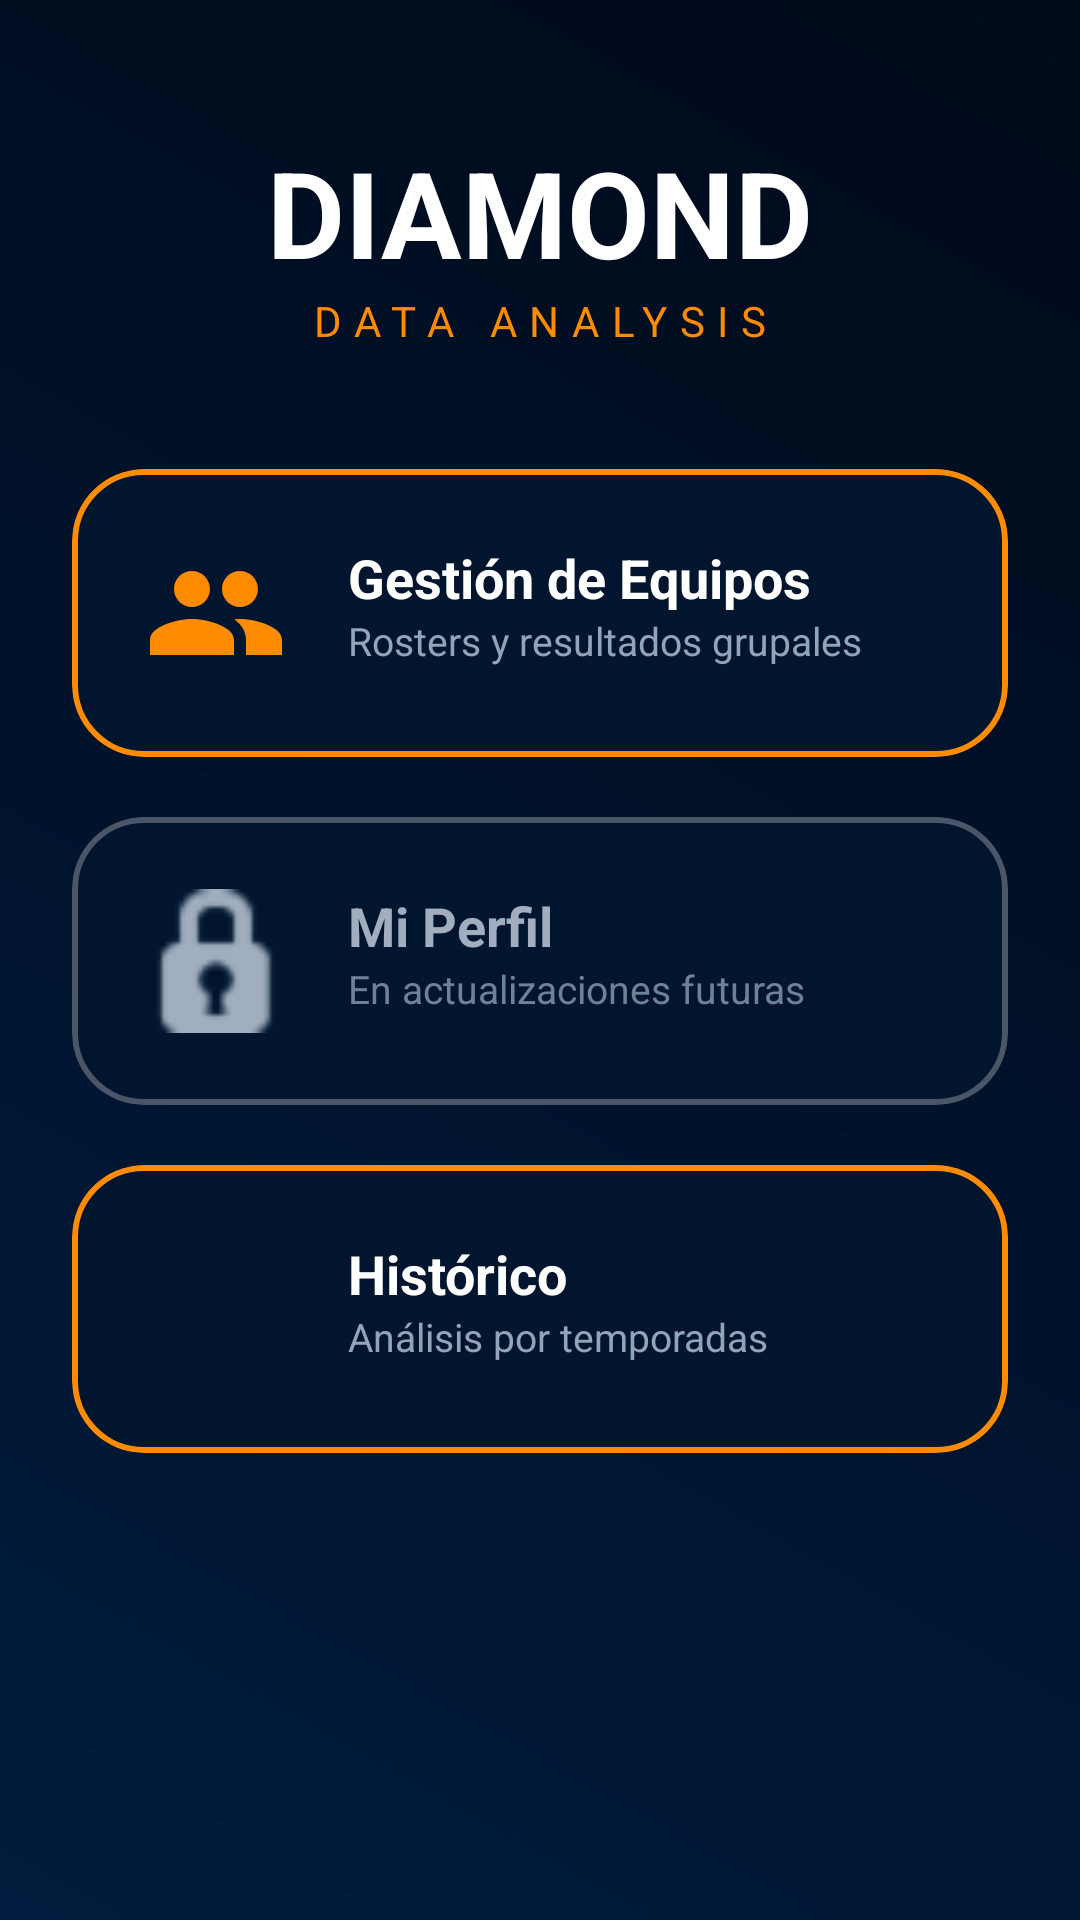

Locate icon controls on the screen. Image size 1080w x 1920h, boxes as box(x1, y1, x2, y2).
secure: box(160, 889, 272, 1033)
